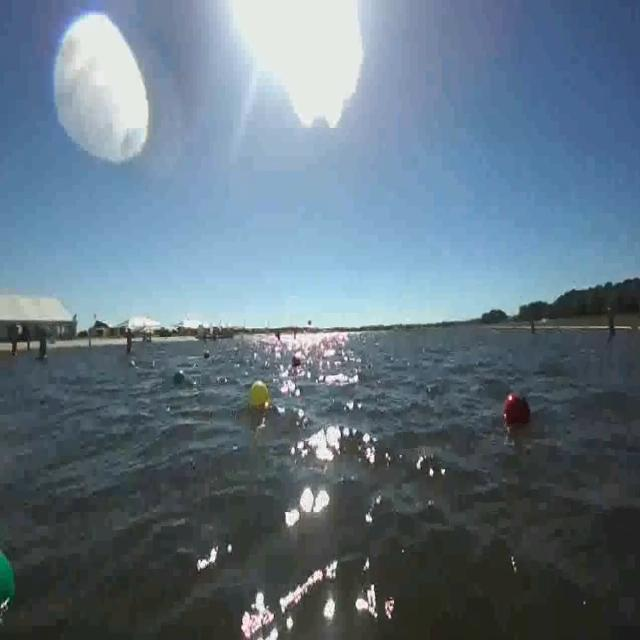green-buoy: (0, 543, 20, 617)
red-buoy: (502, 392, 534, 429)
yellow-buoy: (248, 378, 271, 416)
